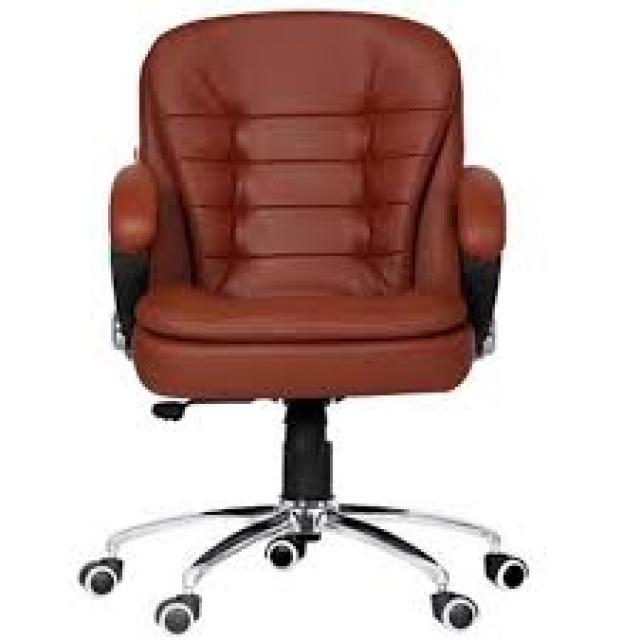chair: (32, 0, 566, 640)
